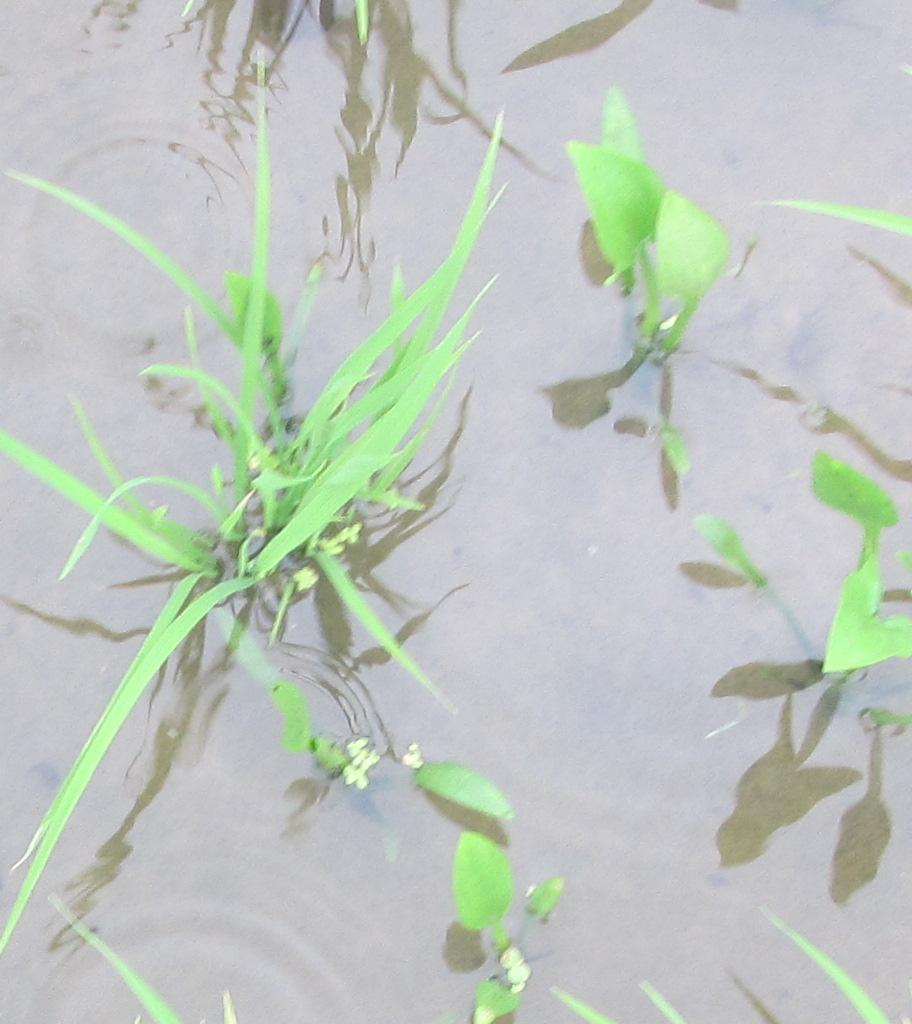Weed: (558, 121, 722, 352), (405, 746, 564, 975), (813, 452, 910, 683)
